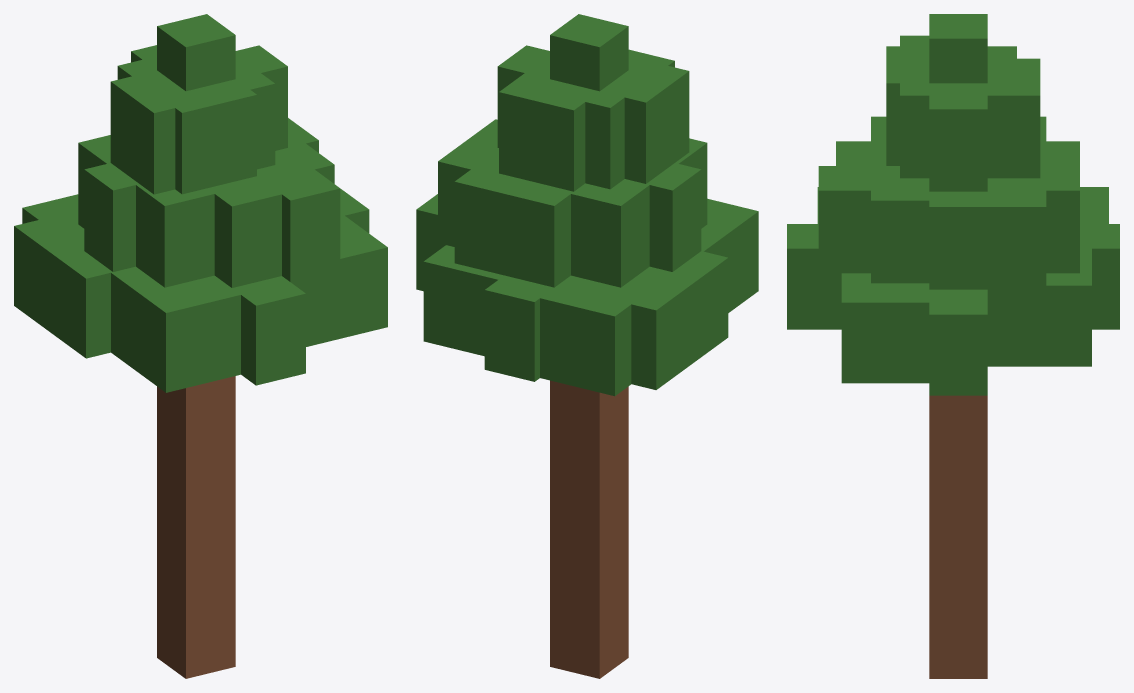
The model's file is pusis_rot.fbx.
The picture shows the model from 3 angles, left to right: view 1: azimuth 30°, elevation 25°; view 2: azimuth 150°, elevation 25°; view 3: azimuth 270°, elevation 25°; orthographic projection.
Parts seen in each view (by area): view 1: Cube.001; view 2: Cube.001; view 3: Cube.001.
Part boxes in pixels (x1,y1,x2,y2): Cube.001: (14,14,387,678); Cube.001: (416,14,758,678); Cube.001: (787,14,1119,678).
Bounding box in the file's own units: 5.67 × 12.09 × 5.69.
